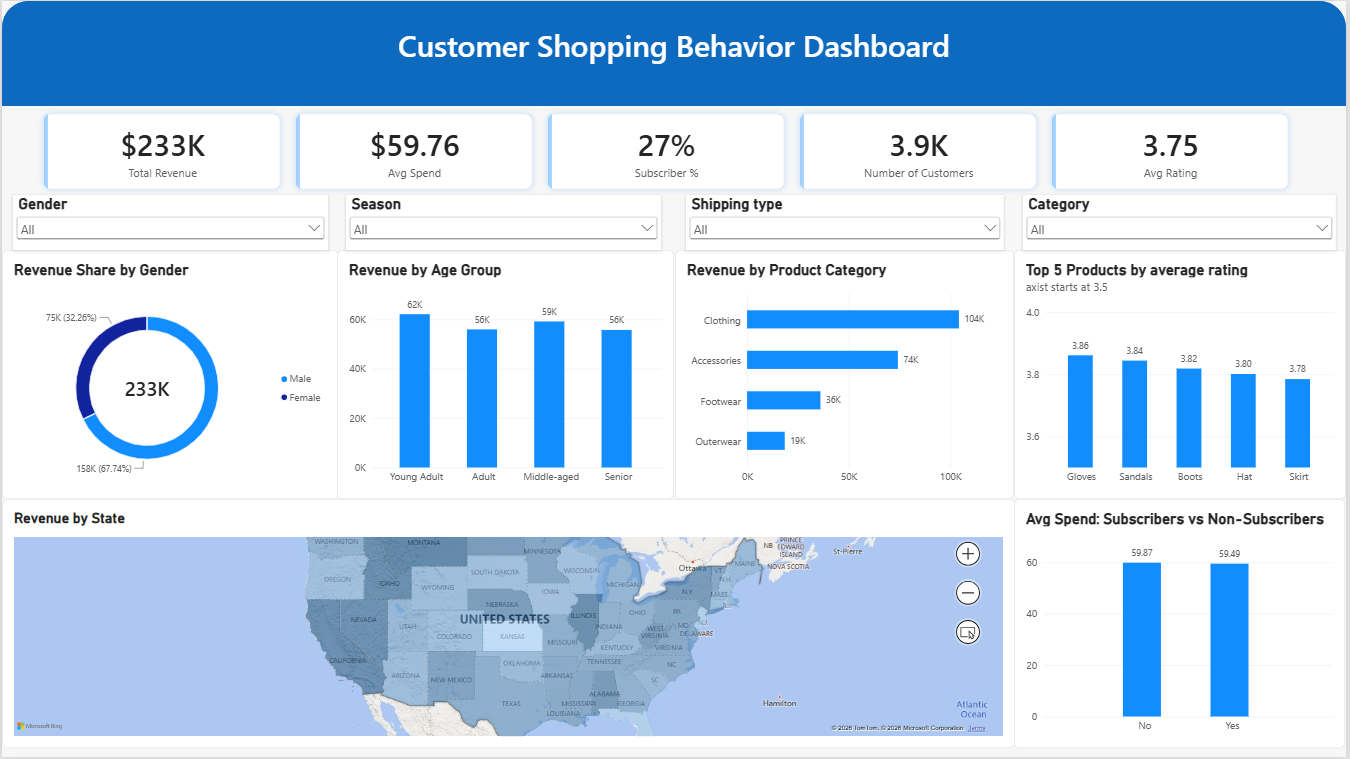

This screenshot's page, from the dashboard's own definition file:
{"tool":"powerbi","page":{"name":"Overview","canvas":[1920,1080],"ordinal":0},"visuals":[{"type":"cardVisual","fields":{"Data":["shopping_behavior.Total Revenue"]},"box":[48.6,150,360,130],"z":0},{"type":"cardVisual","fields":{"Data":["shopping_behavior.Subscriber %"]},"box":[768.6,150,360,130],"z":1000},{"type":"cardVisual","fields":{"Data":["shopping_behavior.Number of Customers"]},"box":[1128.6,150,360,130],"z":2000},{"type":"cardVisual","fields":{"Data":["shopping_behavior.Avg Spend"]},"box":[408.6,150,360,130],"z":3000},{"type":"cardVisual","fields":{"Data":["shopping_behavior.Avg Rating"]},"box":[1488.6,150,360,130],"z":4000},{"type":"shape","box":[0,0,1920,150],"z":5000},{"type":"textbox","box":[0,34.3,1920,81.4],"z":6000},{"type":"donutChart","title":"Revenue Share by Gender","fields":{"Category":["shopping_behavior.gender"],"Y":["shopping_behavior.Total Revenue"]},"box":[0,355.7,481.4,355.7],"z":7000},{"type":"clusteredBarChart","title":"Revenue by Product Category","fields":{"Category":["shopping_behavior.category"],"Y":["shopping_behavior.Total Revenue"]},"box":[961.4,355.7,484.3,355.7],"z":8000},{"type":"clusteredColumnChart","title":"Revenue by Age Group","fields":{"Category":["shopping_behavior.age_group"],"Y":["shopping_behavior.Total Revenue"]},"box":[478.6,355.7,481.4,355.7],"z":9000},{"type":"filledMap","title":"Revenue by State","fields":{"Category":["shopping_behavior.location"]},"box":[0,711.4,1447.1,355.7],"z":10000},{"type":"columnChart","title":"Top 5 Products by average rating","fields":{"Category":["shopping_behavior.item_purchased"],"Y":["shopping_behavior.Avg Rating"]},"box":[1445.7,355.7,474.3,355.7],"z":11000},{"type":"clusteredColumnChart","title":"Avg Spend: Subscribers vs Non-Subscribers","fields":{"Category":["shopping_behavior.subscription_status"],"Y":["shopping_behavior.Avg Spend"]},"box":[1445.7,711.4,472.9,355.7],"z":12000},{"type":"slicer","fields":{"Values":["shopping_behavior.gender"]},"box":[15.7,277.1,450,78.6],"z":13000},{"type":"slicer","fields":{"Values":["shopping_behavior.season"]},"box":[491.4,277.1,450,78.6],"z":14000},{"type":"slicer","fields":{"Values":["shopping_behavior.category"]},"box":[1458.6,277.1,447.1,78.6],"z":15000},{"type":"slicer","fields":{"Values":["shopping_behavior.shipping_type"]},"box":[977.1,277.1,454.3,78.6],"z":16000}]}

Visuals, with their boxes in screenshot pixels (x1, y1, x2, y2), scaled from the page's 1920x1080 canvas onto the 1350x759 screenshot:
cardVisual - shopping_behavior.Total Revenue: crop(34, 105, 287, 197)
cardVisual - shopping_behavior.Subscriber %: crop(540, 105, 794, 197)
cardVisual - shopping_behavior.Number of Customers: crop(794, 105, 1047, 197)
cardVisual - shopping_behavior.Avg Spend: crop(287, 105, 540, 197)
cardVisual - shopping_behavior.Avg Rating: crop(1047, 105, 1300, 197)
shape: crop(0, 0, 1349, 105)
textbox: crop(0, 24, 1349, 81)
"Revenue Share by Gender" donutChart: crop(0, 250, 338, 500)
"Revenue by Product Category" clusteredBarChart: crop(676, 250, 1017, 500)
"Revenue by Age Group" clusteredColumnChart: crop(337, 250, 675, 500)
"Revenue by State" filledMap: crop(0, 500, 1017, 750)
"Top 5 Products by average rating" columnChart: crop(1017, 250, 1349, 500)
"Avg Spend: Subscribers vs Non-Subscribers" clusteredColumnChart: crop(1017, 500, 1349, 750)
slicer - shopping_behavior.gender: crop(11, 195, 327, 250)
slicer - shopping_behavior.season: crop(346, 195, 662, 250)
slicer - shopping_behavior.category: crop(1026, 195, 1340, 250)
slicer - shopping_behavior.shipping_type: crop(687, 195, 1006, 250)
